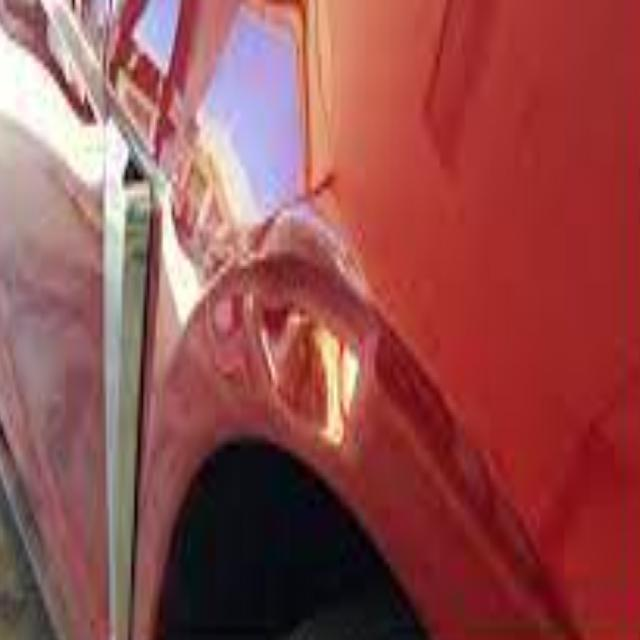dents: (251, 205, 386, 447)
